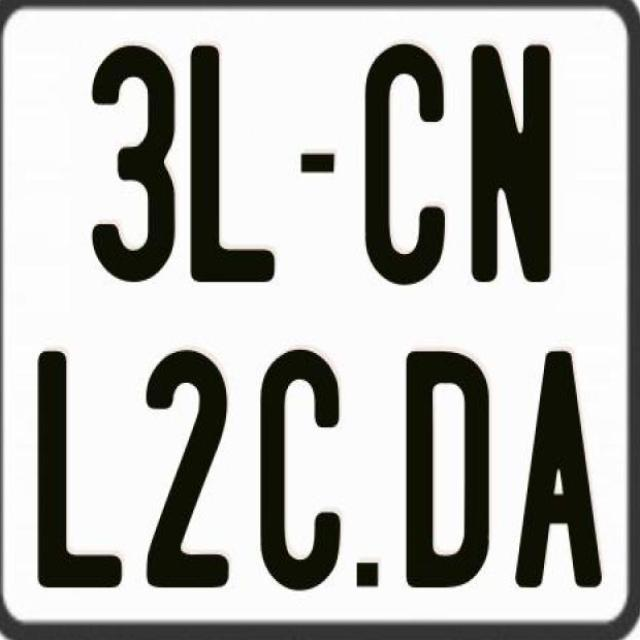license-plate: (24, 12, 640, 623)
